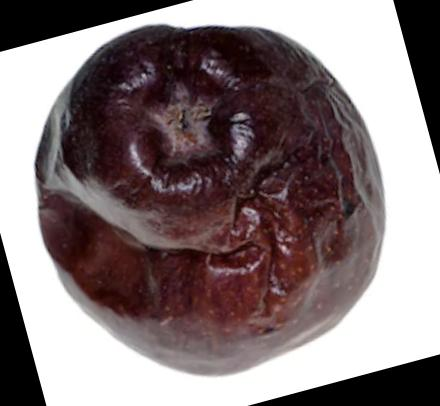Banana: (37, 23, 385, 372)
